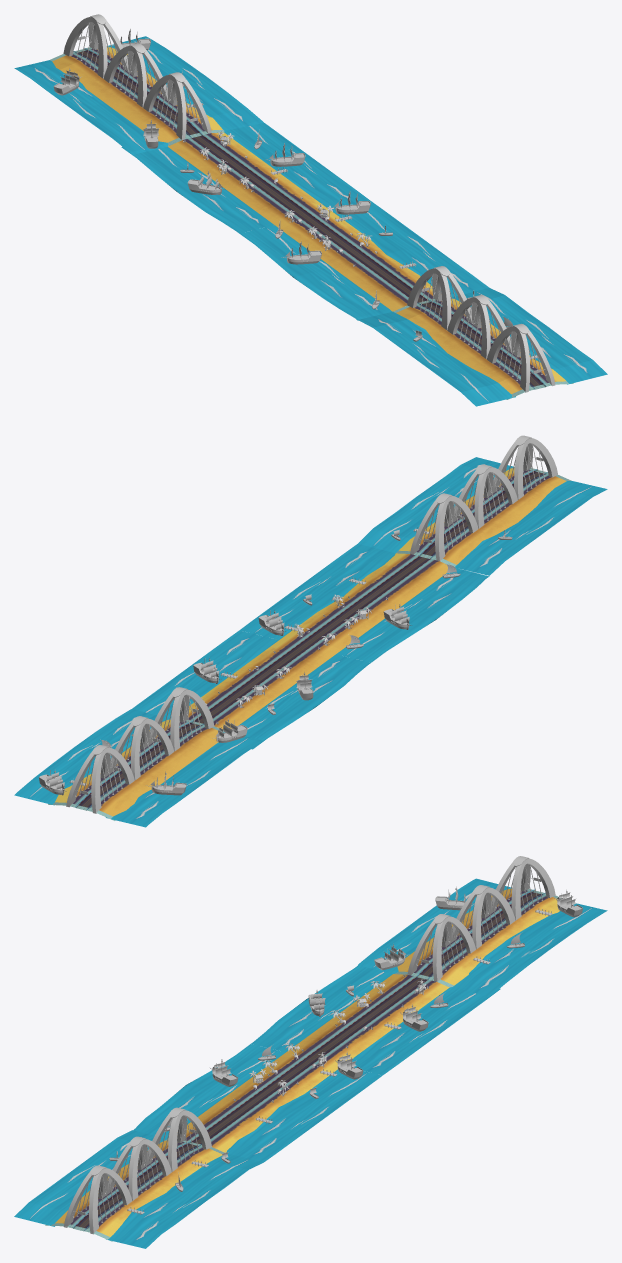
The model's file is beach envprops.fbx.
3 views of the same model, one above another, from view 1: azimuth 30°, elevation 25°; view 2: azimuth 150°, elevation 25°; view 3: azimuth 330°, elevation 25° (orthographic).
Parts seen in each view (by area): view 1: bridgeRoad_low2, bridgeRoad_low1, bridgeRoad_low3, bridgeRoad_low, seaPlane_low7, seaPlane_low5, seaPlane_low2, seaPlane_low3, seaPlane_low4, seaPlane_low6, seaPlane_low, seaPlane_low1 (+6 smaller); view 2: bridgeRoad_low1, bridgeRoad_low2, bridgeRoad_low3, bridgeRoad_low, seaPlane_low2, seaPlane_low7, seaPlane_low5, seaPlane_low4, seaPlane_low6, seaPlane_low, seaPlane_low3, seaPlane_low1 (+6 smaller); view 3: bridgeRoad_low2, bridgeRoad_low1, seaPlane_low2, seaPlane_low6, bridgeRoad_low3, seaPlane_low1, bridgeRoad_low, seaPlane_low3, seaPlane_low4, seaPlane_low5, seaPlane_low7, seaPlane_low (+6 smaller).
Boxes of the visible parts, x1,y1,x2,y2 form: bridgeRoad_low2: (168,132,336,228); bridgeRoad_low1: (280,215,450,311); bridgeRoad_low3: (52,47,222,142); bridgeRoad_low: (396,299,566,394); seaPlane_low7: (358,311,515,406); seaPlane_low5: (240,225,392,320); seaPlane_low2: (333,201,489,297); seaPlane_low3: (224,123,370,210); seaPlane_low4: (121,146,273,233); seaPlane_low6: (452,288,607,384); seaPlane_low: (14,60,168,154); seaPlane_low1: (108,36,263,130); bridgeRoad_low1: (285,553,447,649); bridgeRoad_low2: (179,636,341,728); bridgeRoad_low3: (55,720,218,816); bridgeRoad_low: (399,468,566,564); seaPlane_low2: (239,544,395,639); seaPlane_low7: (455,481,607,575); seaPlane_low5: (336,568,489,662); seaPlane_low4: (239,654,370,749); seaPlane_low6: (358,457,513,553); seaPlane_low: (106,732,263,827); seaPlane_low3: (132,630,278,718); seaPlane_low1: (14,708,168,805); bridgeRoad_low2: (280,974,449,1069); bridgeRoad_low1: (168,1056,336,1152); seaPlane_low2: (226,1069,381,1161); seaPlane_low6: (106,1154,263,1248); bridgeRoad_low3: (397,889,559,985); seaPlane_low1: (453,903,607,997); bridgeRoad_low: (55,1140,222,1236); seaPlane_low3: (352,987,500,1075); seaPlane_low4: (251,965,392,1052); seaPlane_low5: (133,1044,285,1138); seaPlane_low7: (14,1130,166,1226); seaPlane_low: (358,878,510,973).
Bounding box in the file's own units: 7723 × 2750 × 44967.
